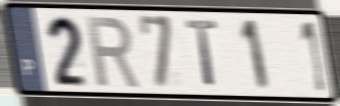1: (240, 18, 272, 94), (298, 19, 328, 95)
2: (42, 10, 92, 90)
7: (135, 13, 176, 93)
R: (84, 14, 142, 89)
T: (183, 17, 221, 90)
